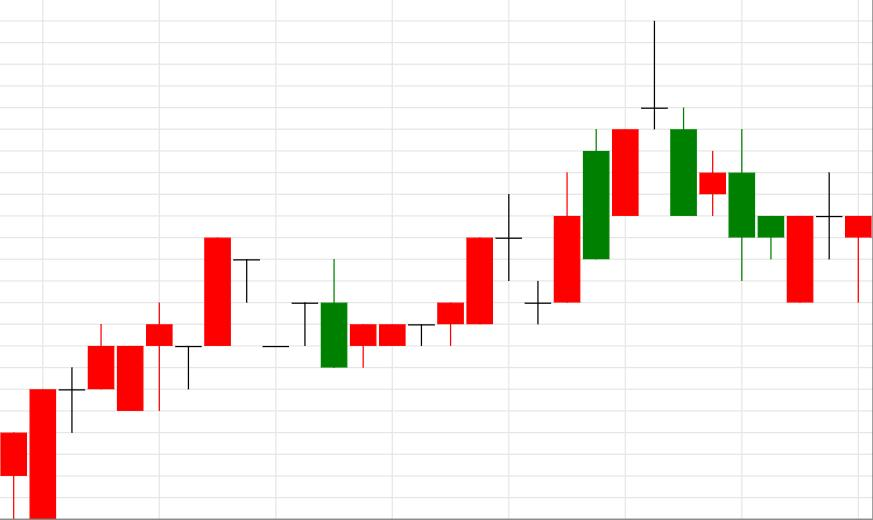evening_star_fall: (524, 20, 697, 325)
